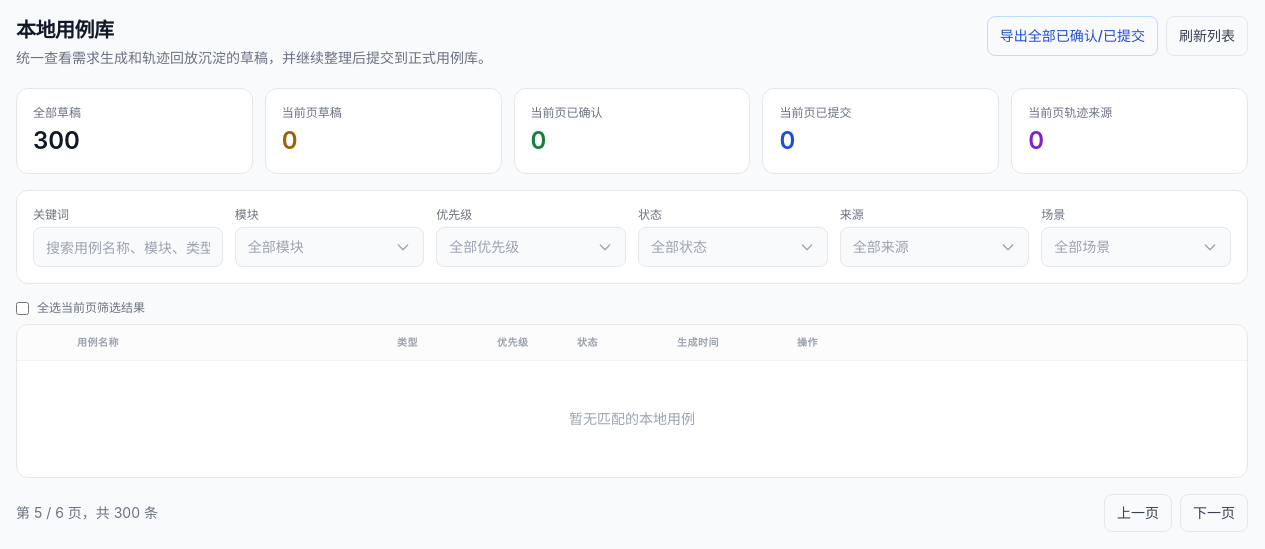
case libraries use server-side filtering › reloads local cases from page zero with the current filters
Expected: the text "第 5 / 6 页，共 300 条" is shown, [16,503,158,523]
Type "门禁审批" into the field with placeholder "搜索用例名称、模块、类型...".
click(128, 247); type("门禁审批")  # box [33,227,223,267]
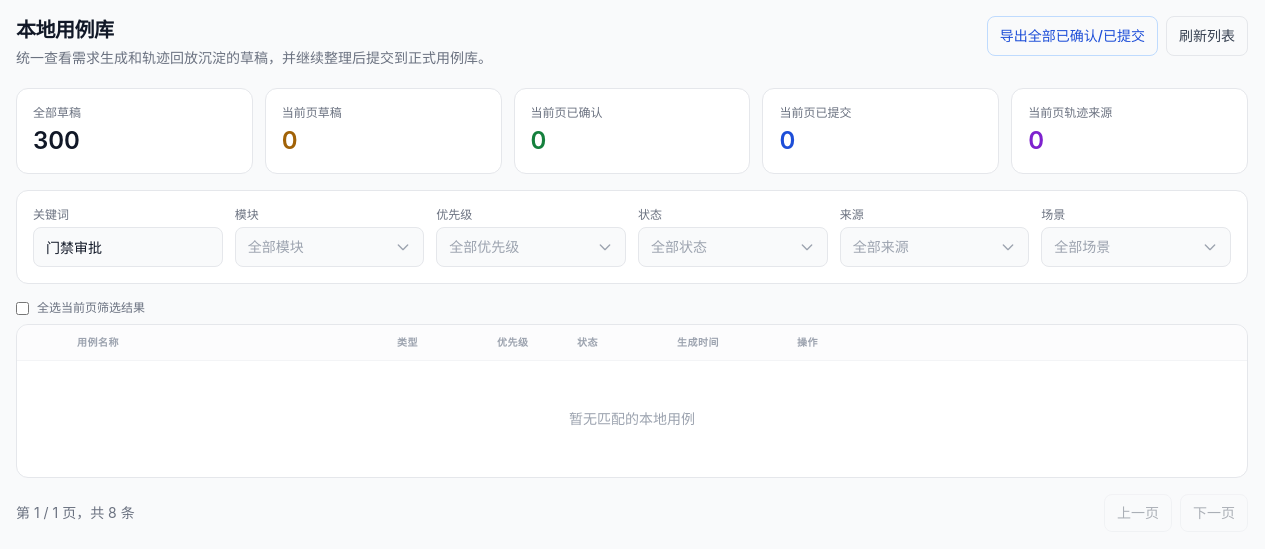
Now the text "第 1 / 1 页，共 8 条" is shown, box [16,503,135,523]
